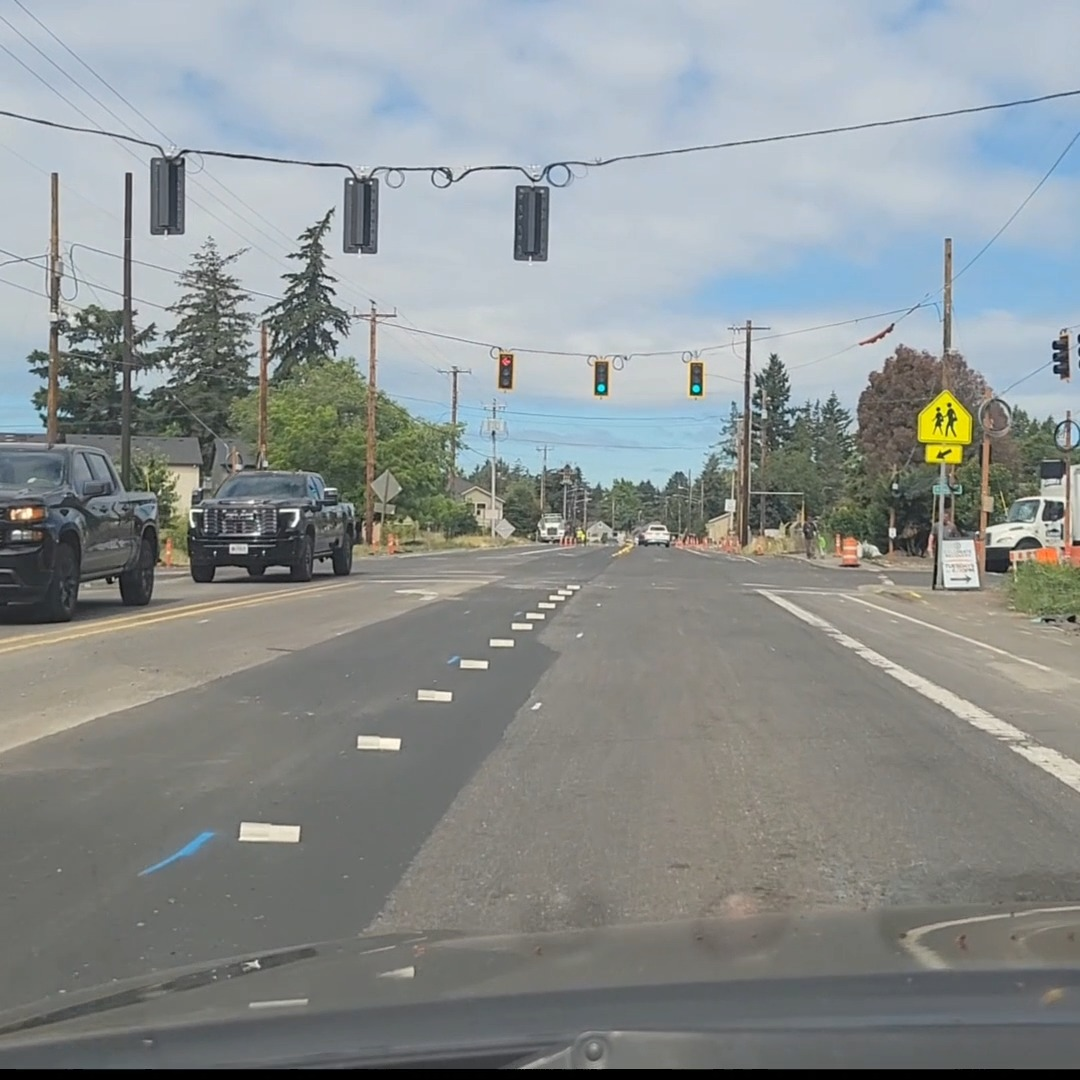car: (0, 442, 161, 619), (186, 472, 359, 585), (636, 524, 672, 546)
